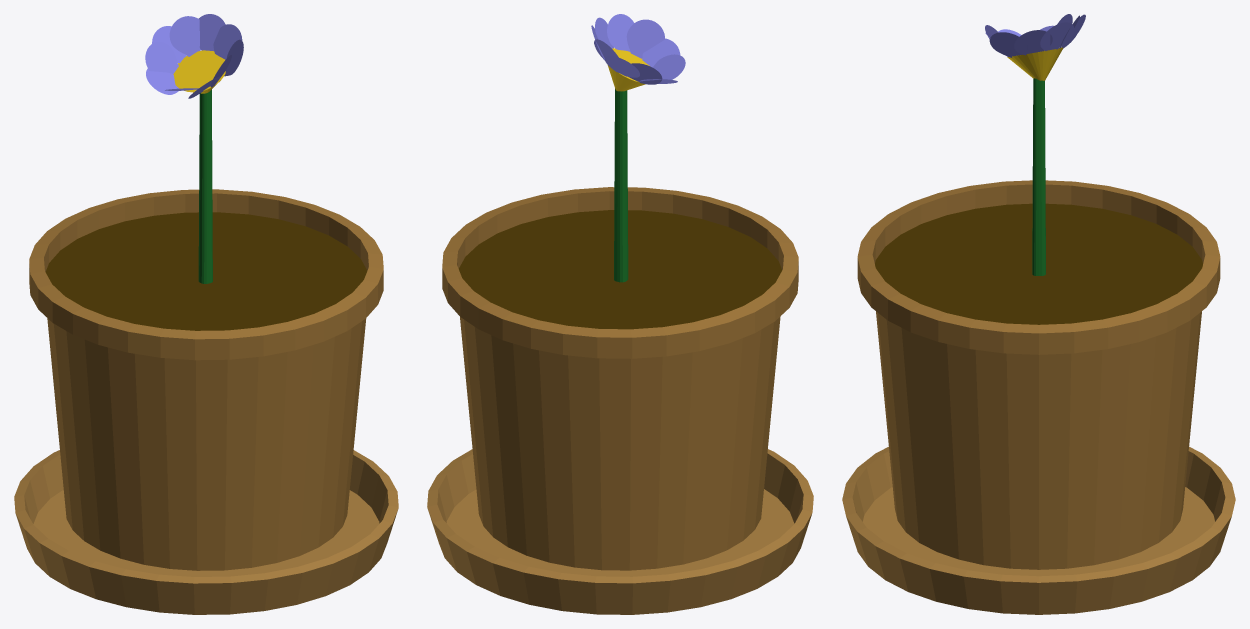
The model's file is flower pot.fbx.
3 renders of one model, left to right at view 1: azimuth 30°, elevation 25°; view 2: azimuth 150°, elevation 25°; view 3: azimuth 270°, elevation 25°, orthographic. The views are drawn at different scales.
Parts seen in each view (by area): view 1: Cylinder.001, Circle, Cylinder, Circle.001, Cube, Cylinder.002; view 2: Cylinder.001, Circle, Cylinder, Circle.001, Cube, Cylinder.002; view 3: Cylinder.001, Circle, Cylinder, Cube, Circle.001, Cylinder.002.
Part boxes in pixels (x1,y1,x2,y2): Cylinder.001: (29, 189, 383, 570); Circle: (45, 212, 367, 330); Cylinder: (14, 450, 398, 614); Circle.001: (145, 14, 243, 98); Cube: (198, 89, 212, 283); Cylinder.002: (173, 50, 225, 93); Cylinder.001: (442, 187, 798, 570); Circle: (459, 210, 782, 329); Cylinder: (427, 449, 813, 614); Circle.001: (591, 14, 685, 84); Cube: (614, 88, 628, 282); Cylinder.002: (607, 48, 649, 91); Cylinder.001: (857, 180, 1220, 569); Circle: (875, 203, 1202, 324); Cylinder: (842, 446, 1235, 614); Cube: (1032, 78, 1045, 275); Circle.001: (985, 14, 1085, 57); Cylinder.002: (1007, 47, 1063, 80).
Bounding box in the file's own units: 164 × 241 × 164.
